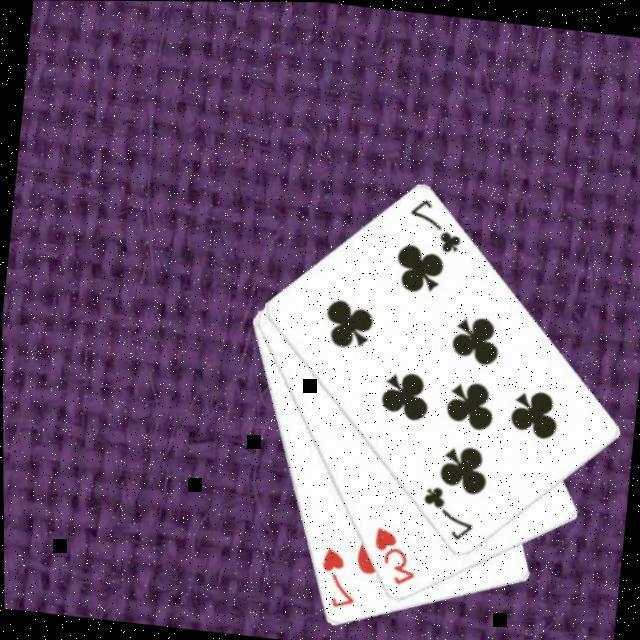3H: (366, 520, 422, 588)
7C: (403, 191, 469, 255), (416, 478, 480, 542)
7H: (312, 541, 362, 611)
